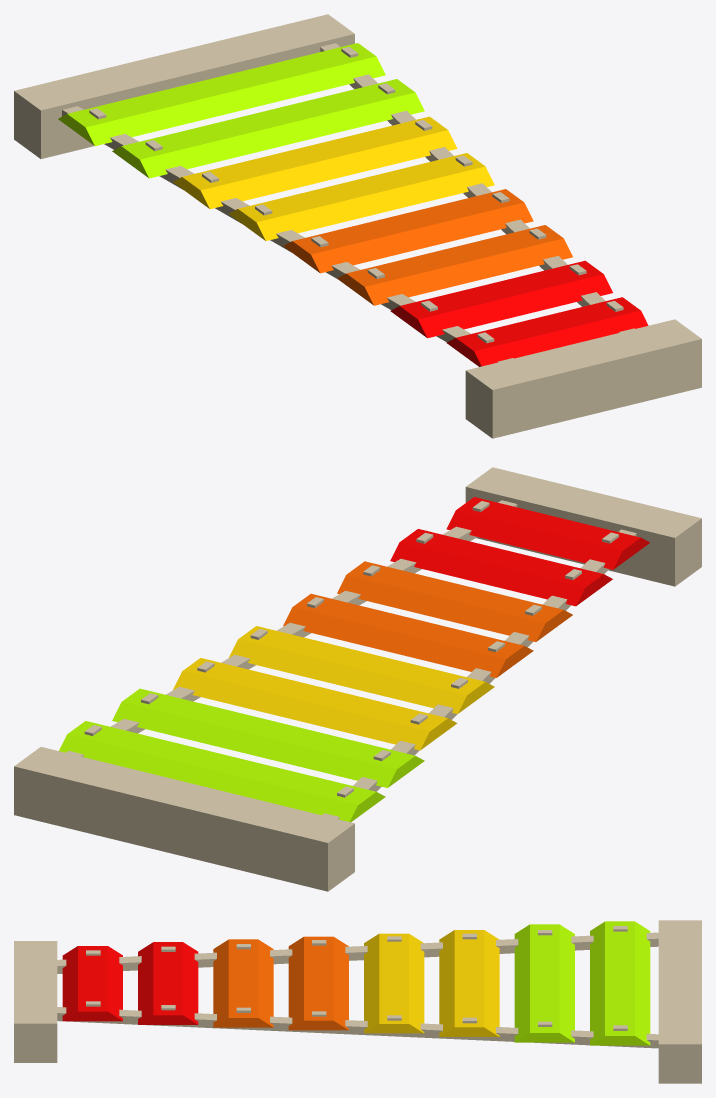
The model's file is Xylophone.fbx.
3 views of the same model, one above another, from view 1: azimuth 30°, elevation 25°; view 2: azimuth 150°, elevation 25°; view 3: azimuth 270°, elevation 25° (orthographic). The views are drawn at different scales.
Parts seen in each view (by area): view 1: Xylophone; view 2: Xylophone; view 3: Xylophone.
Part boxes in pixels (x1=…): Xylophone: x1=14, y1=14, x2=701, y2=438; Xylophone: x1=14, y1=467, x2=701, y2=891; Xylophone: x1=14, y1=920, x2=701, y2=1083.
Bounding box in the file's own units: 175 × 29.77 × 411.
1 material, 1 textured.
